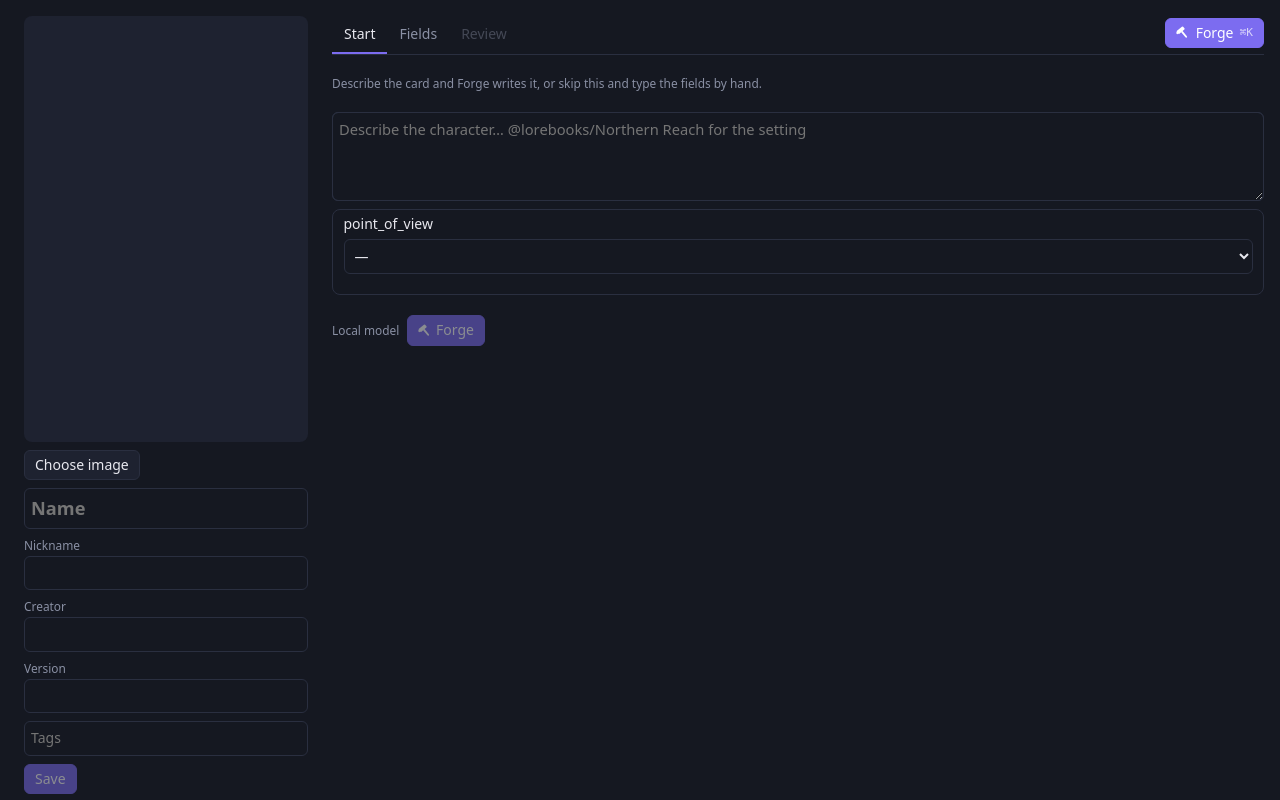
a new card offers no report-only actions and can't be saved while a run is out
Click the tab "Fields": (418, 35) [387,16,449,54]
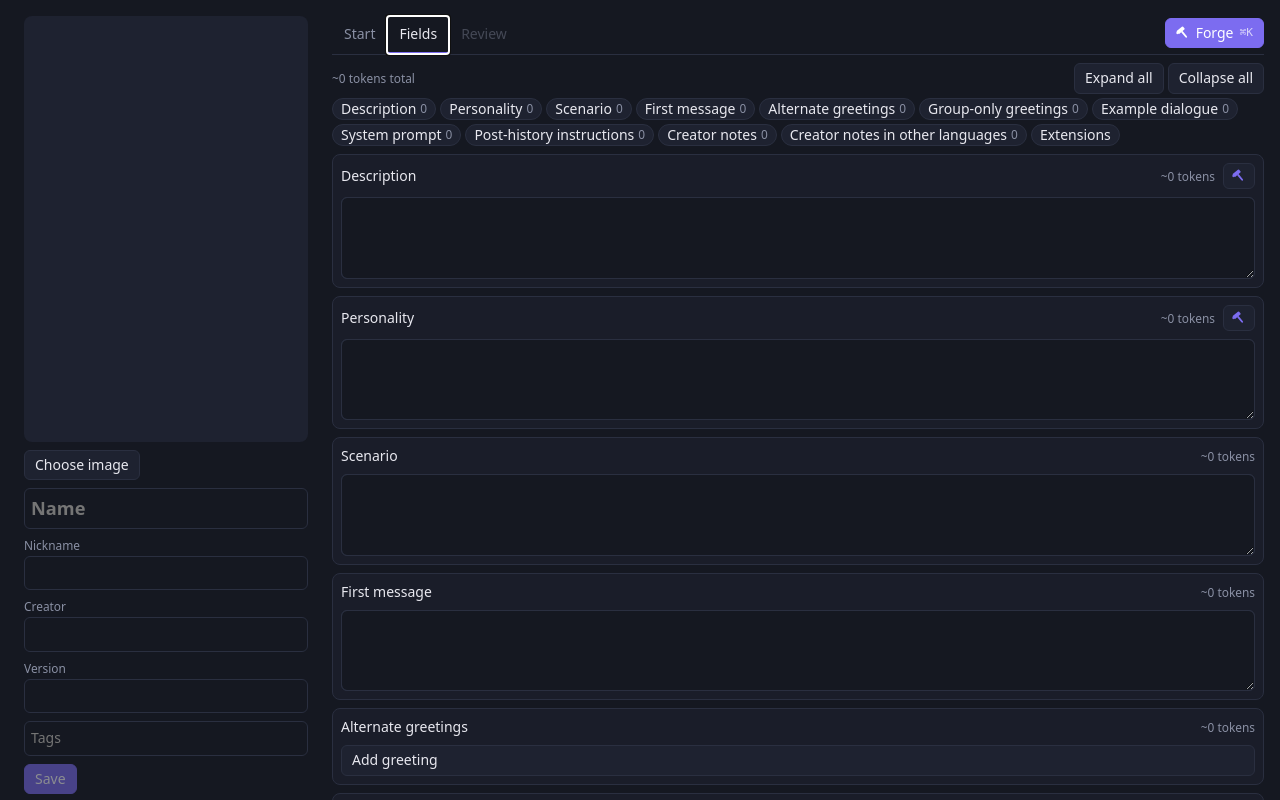
In the text box named "Description": (798, 238) [341,198,1255,279], type "A smith"
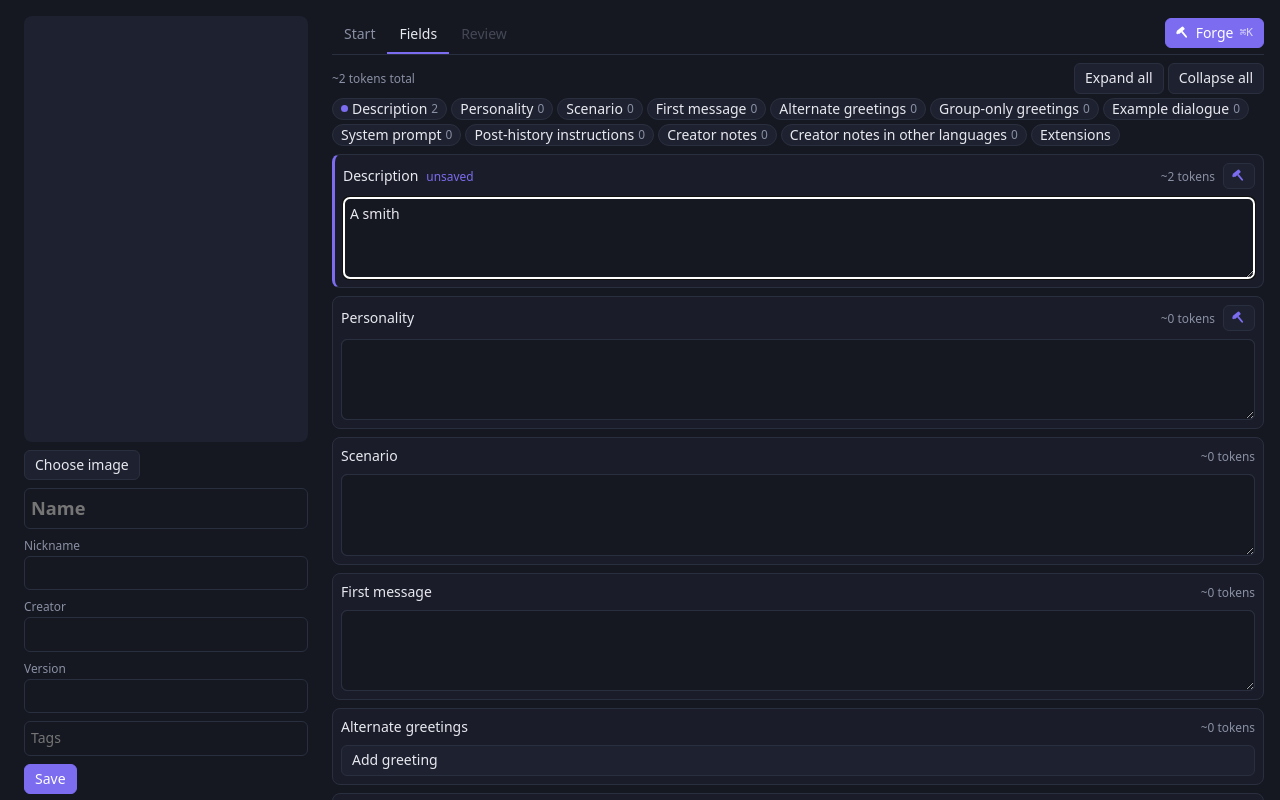
Click the button named "Forge actions for Description": (1239, 176) [1223,163,1255,190]
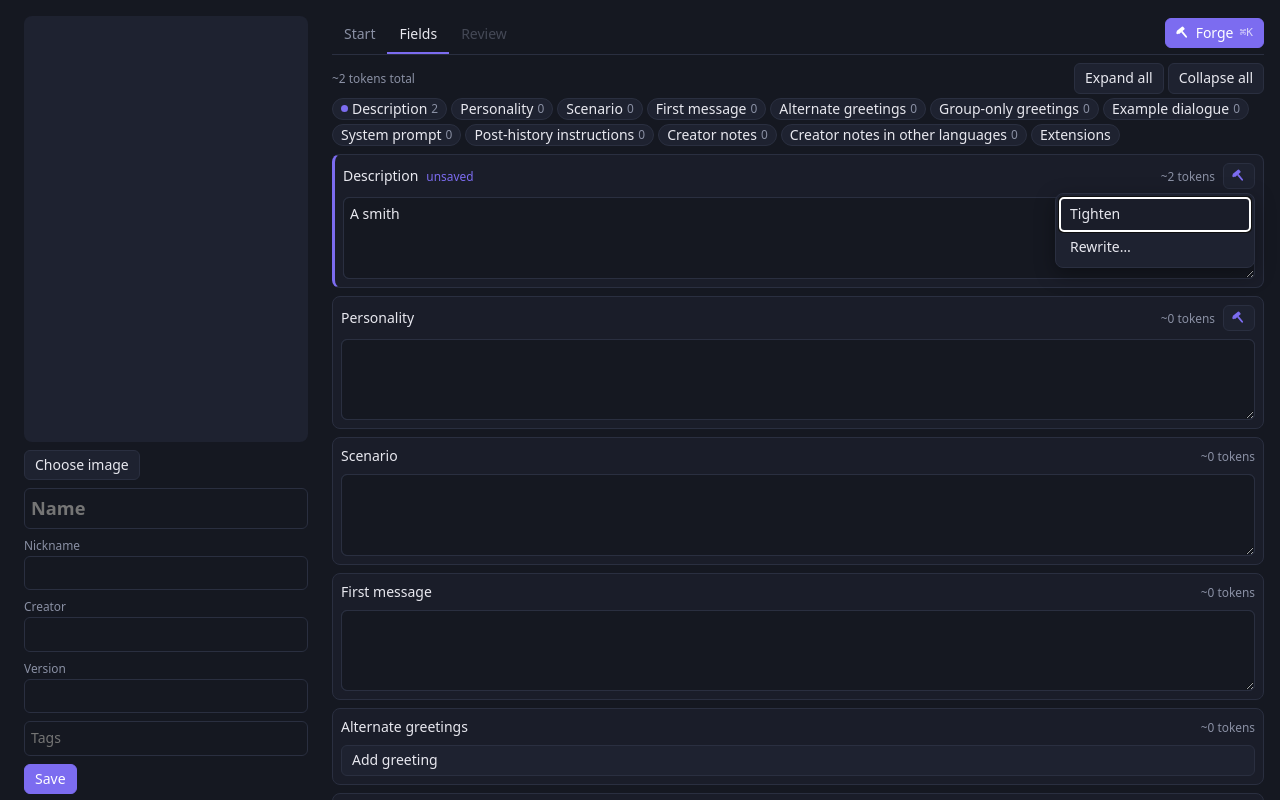
Click the menu item "Tighten": (1155, 215) [1060,198,1250,231]
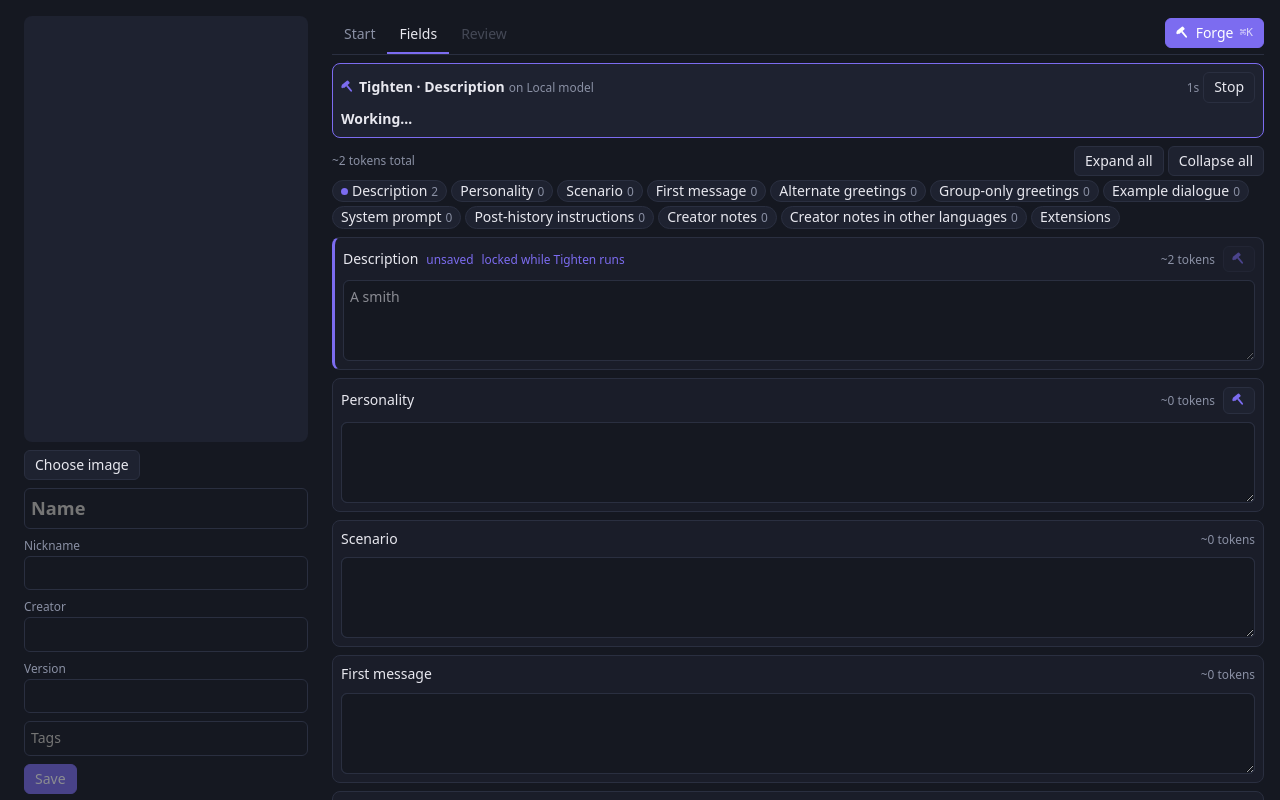
Check: the button "Save" is disabled, box [24,764,77,794]
